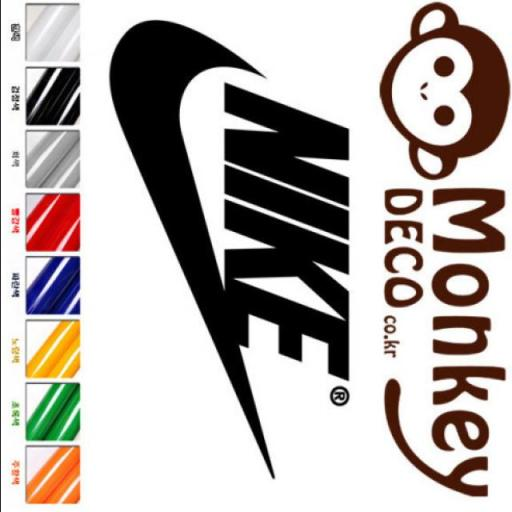Nike: (106, 16, 251, 417), (220, 82, 352, 383)
